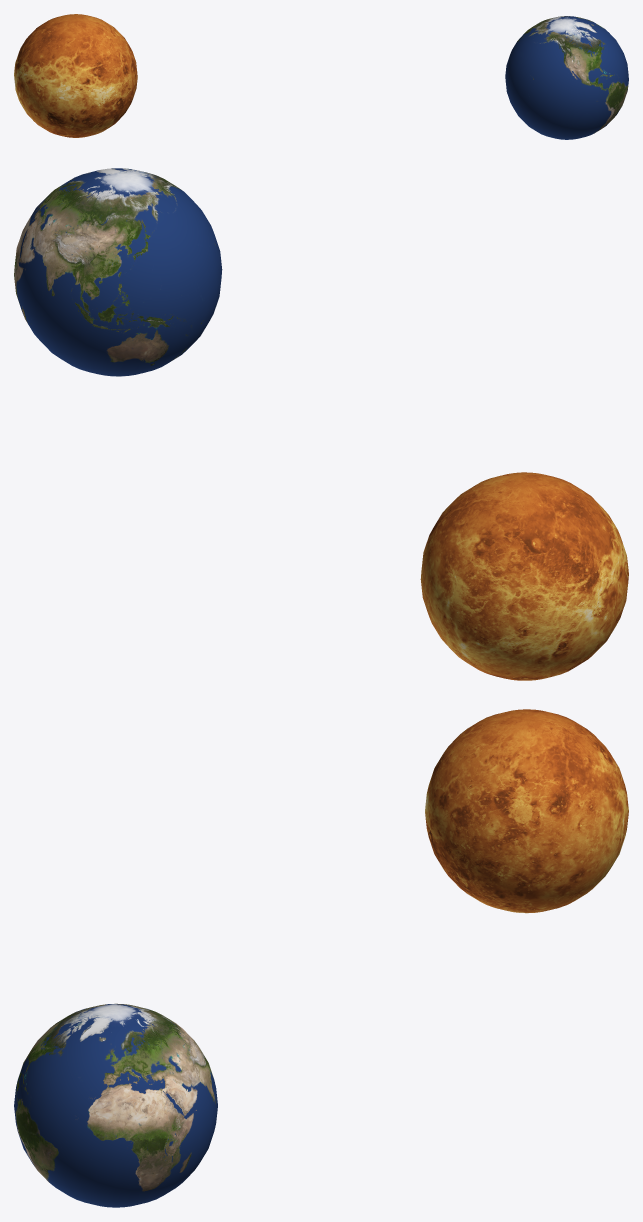
File: earth1.glb
3 renders of one model, top to bottom at view 1: azimuth 30°, elevation 25°; view 2: azimuth 150°, elevation 25°; view 3: azimuth 270°, elevation 25°, orthographic. The views are drawn at different scales.
Parts seen in each view (by area): view 1: Sphere, Sphere.001; view 2: Sphere, Sphere.001; view 3: Sphere, Sphere.001.
Boxes of the visible parts, x1,y1,x2,y2 form: Sphere: (14,14,137,137); Sphere.001: (505,16,628,139); Sphere: (420,472,628,680); Sphere.001: (14,168,222,376); Sphere: (425,709,628,913); Sphere.001: (14,1003,217,1207).
Bounding box in the file's own units: 8.83 × 2 × 6.03.
Materials: 2 (2 with a texture image).
